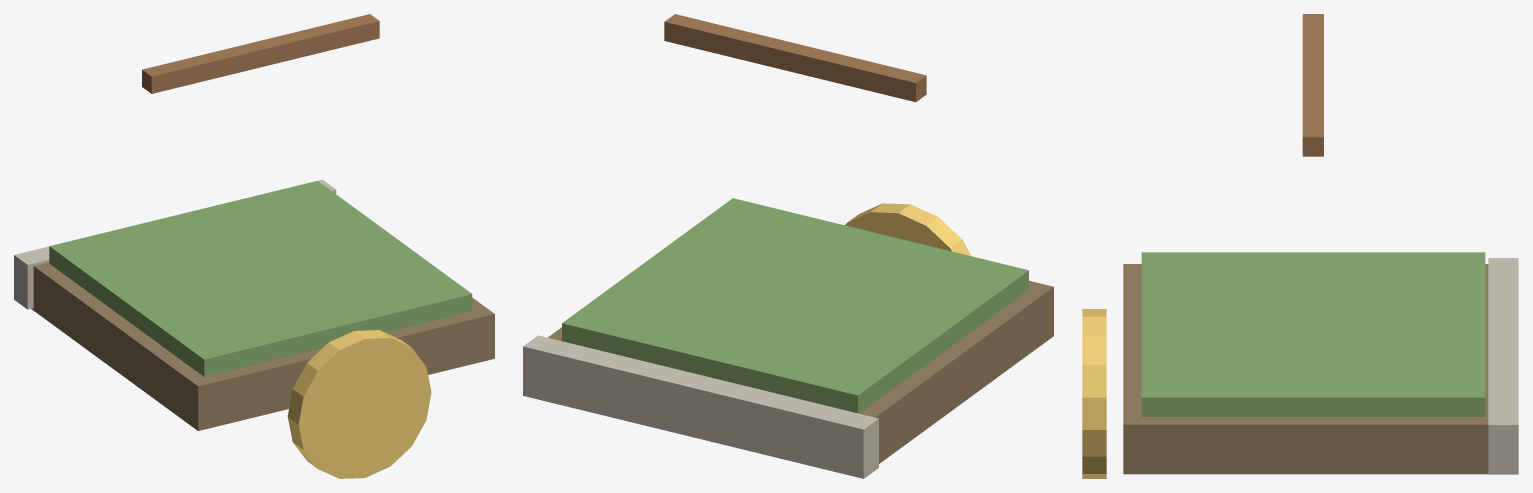
The model's file is 25_TrongDong.glb.
The picture shows the model from 3 angles, left to right: view 1: azimuth 30°, elevation 25°; view 2: azimuth 150°, elevation 25°; view 3: azimuth 270°, elevation 25°; orthographic projection. The views are drawn at different scales.
Parts seen in each view (by area): view 1: grass, soil, gong, top, border; view 2: grass, border, soil, top, gong; view 3: grass, soil, border, gong, top.
Part boxes in pixels (x1,y1,x2,y2): grass: [49, 181, 472, 376]; soil: [31, 262, 494, 430]; gong: [287, 330, 431, 478]; top: [142, 14, 379, 93]; border: [14, 179, 336, 309]; grass: [562, 198, 1028, 413]; border: [523, 335, 878, 478]; soil: [548, 280, 1053, 463]; top: [664, 14, 926, 102]; gong: [845, 203, 971, 256]; grass: [1141, 252, 1485, 416]; soil: [1123, 264, 1488, 474]; border: [1488, 258, 1518, 474]; gong: [1082, 309, 1106, 478]; top: [1302, 14, 1323, 156].
Bounding box in the file's own units: 1.3 × 1.43 × 1.44.
